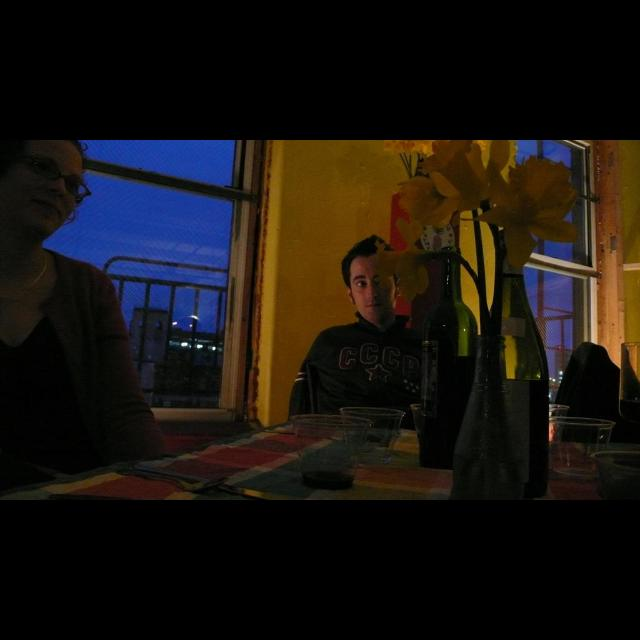Flower: (478, 154, 592, 270), (375, 218, 459, 308), (430, 140, 516, 210), (394, 169, 476, 233), (418, 140, 489, 203), (379, 140, 433, 156)
